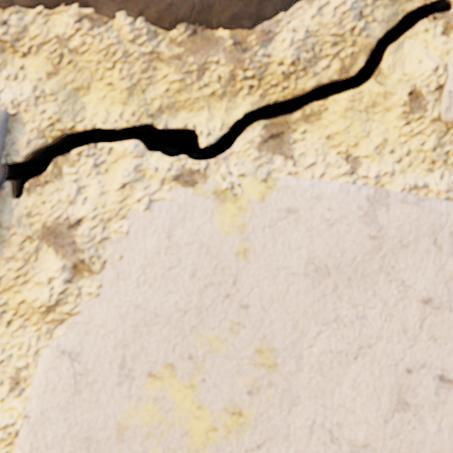brick: (16, 175, 452, 452), (0, 0, 302, 32), (440, 47, 452, 123), (0, 109, 9, 187)
crack: (1, 0, 451, 199)
